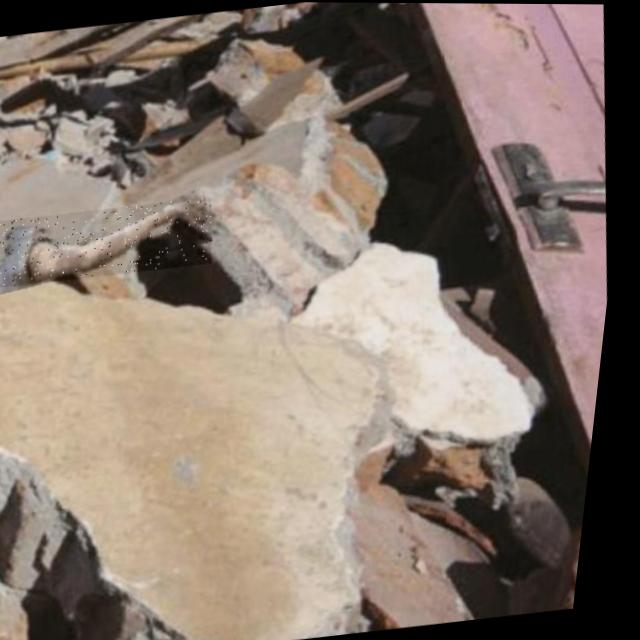Person in Rubble: (0, 195, 223, 290)
